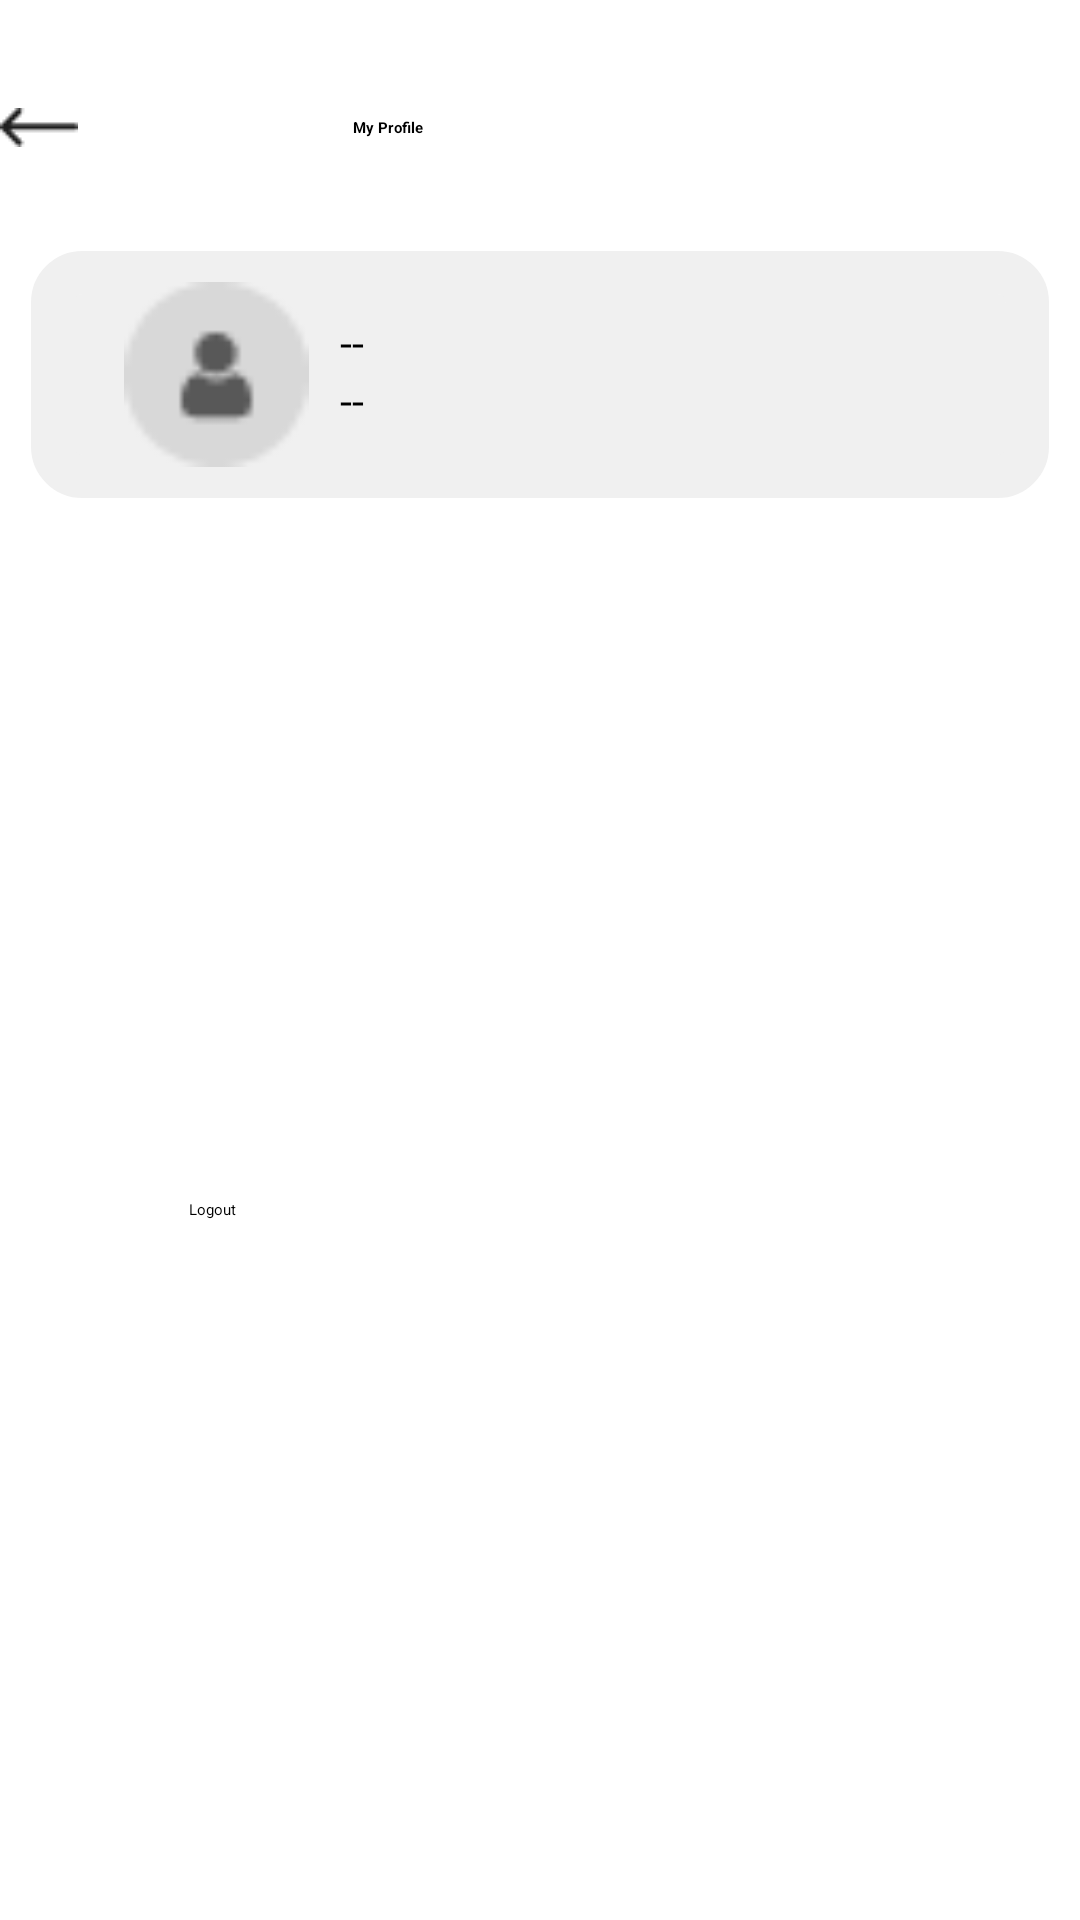

Screen size 1080x1920. Icon name, then its center in pixels as (x=x, y=y):
backicon: (x=39, y=127)
